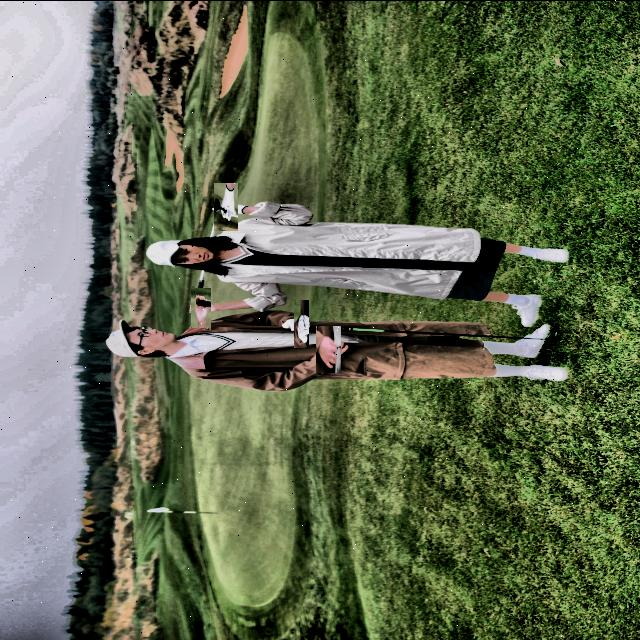gloved: (208, 188, 245, 224), (311, 330, 347, 367), (285, 306, 317, 338), (186, 292, 217, 322)
